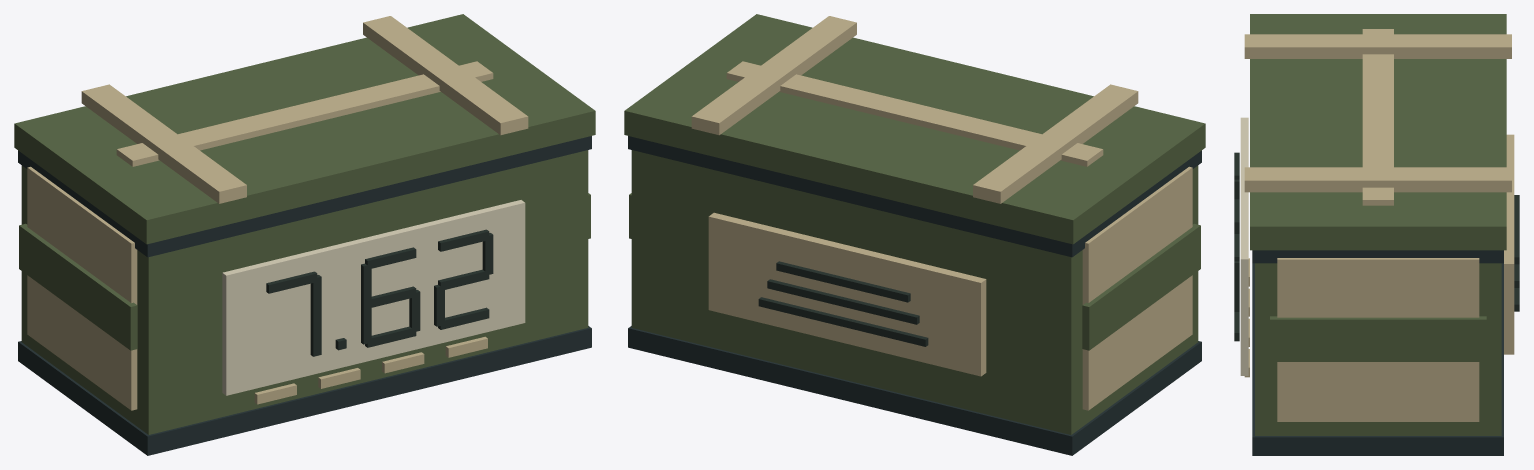
File: FSA_AMMO_Pack_762.glb
The picture shows the model from 3 angles, left to right: view 1: azimuth 30°, elevation 25°; view 2: azimuth 150°, elevation 25°; view 3: azimuth 270°, elevation 25°; orthographic projection. The views are drawn at different scales.
Visible parts, largest first — view 1: ClosedLid, Package, LabelPlate, Fold_-1, BaseSeam, LidSeam, TopFold, SealEnd_-1, PackingBand_1, PackingBand_-1, Caliber_3_a, Caliber_0_a (+2 smaller); view 2: ClosedLid, Package, RearPanel, Fold_-1, BaseSeam, LidSeam, TopFold, SealEnd_-1, PackingBand_1, PackingBand_-1, RearLine_0, RearLine_1 (+1 smaller); view 3: ClosedLid, Fold_1, Package, SealEnd_1, PackingBand_1, PackingBand_-1, BaseSeam, TopFold, LidSeam, LabelPlate, RearPanel, RearLine_2.
Boxes of the visible parts, x1=… form: ClosedLid: x1=14, y1=14, x2=595, y2=244; Package: x1=21, y1=150, x2=588, y2=434; LabelPlate: x1=222, y1=200, x2=525, y2=395; Fold_-1: x1=27, y1=166, x2=137, y2=410; BaseSeam: x1=18, y1=326, x2=591, y2=455; LidSeam: x1=18, y1=136, x2=591, y2=257; TopFold: x1=116, y1=61, x2=493, y2=166; SealEnd_-1: x1=19, y1=223, x2=137, y2=350; PackingBand_1: x1=363, y1=16, x2=528, y2=135; PackingBand_-1: x1=81, y1=84, x2=246, y2=203; Caliber_3_a: x1=438, y1=229, x2=489, y2=251; Caliber_0_a: x1=266, y1=271, x2=317, y2=293; ClosedLid: x1=624, y1=14, x2=1205, y2=244; Package: x1=631, y1=150, x2=1198, y2=434; RearPanel: x1=708, y1=212, x2=986, y2=376; Fold_-1: x1=1082, y1=166, x2=1192, y2=410; BaseSeam: x1=628, y1=326, x2=1201, y2=455; LidSeam: x1=628, y1=136, x2=1201, y2=257; TopFold: x1=726, y1=61, x2=1103, y2=166; SealEnd_-1: x1=1082, y1=223, x2=1200, y2=350; PackingBand_1: x1=691, y1=16, x2=856, y2=135; PackingBand_-1: x1=973, y1=84, x2=1138, y2=203; RearLine_0: x1=758, y1=297, x2=928, y2=346; RearLine_1: x1=767, y1=279, x2=919, y2=324; ClosedLid: x1=1250, y1=14, x2=1506, y2=250; Fold_1: x1=1277, y1=258, x2=1479, y2=421; Package: x1=1255, y1=263, x2=1501, y2=435; SealEnd_1: x1=1270, y1=316, x2=1486, y2=361; PackingBand_1: x1=1244, y1=167, x2=1511, y2=192; PackingBand_-1: x1=1244, y1=34, x2=1511, y2=58; BaseSeam: x1=1252, y1=263, x2=1503, y2=455; TopFold: x1=1362, y1=29, x2=1393, y2=205; LidSeam: x1=1252, y1=250, x2=1503, y2=263; LabelPlate: x1=1240, y1=117, x2=1248, y2=375; RearPanel: x1=1504, y1=134, x2=1514, y2=354; RearLine_2: x1=1514, y1=195, x2=1519, y2=264.
Bounding box in the file's own units: 0.199 × 0.1035 × 0.11.
